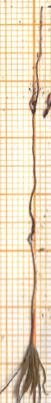flower: (0, 346, 51, 402)
root: (24, 3, 47, 250)
stem: (25, 249, 39, 346)
